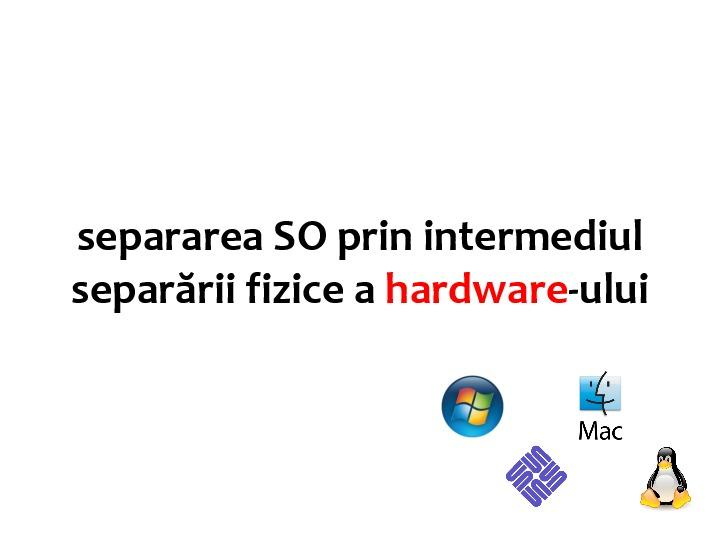title: (64, 205, 684, 333)
